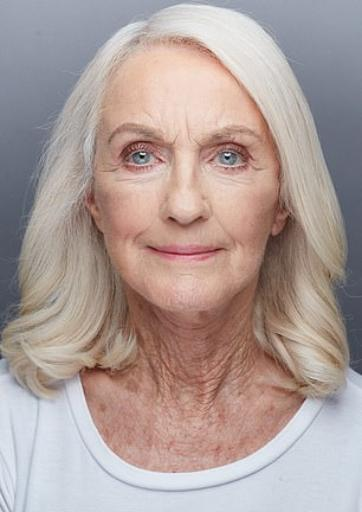left_eye: (207, 140, 253, 172)
left_lip_corner: (219, 244, 232, 261)
right_eye: (123, 149, 165, 174)
right_lip_corner: (143, 241, 156, 256)
